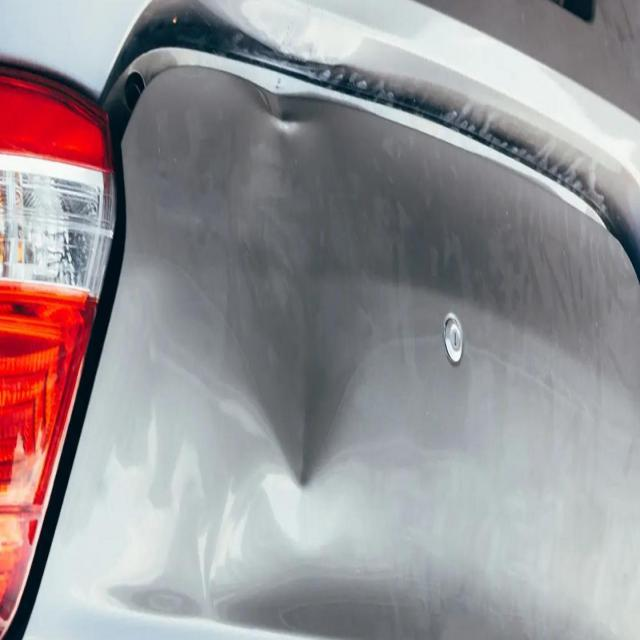dent: (226, 41, 387, 532)
